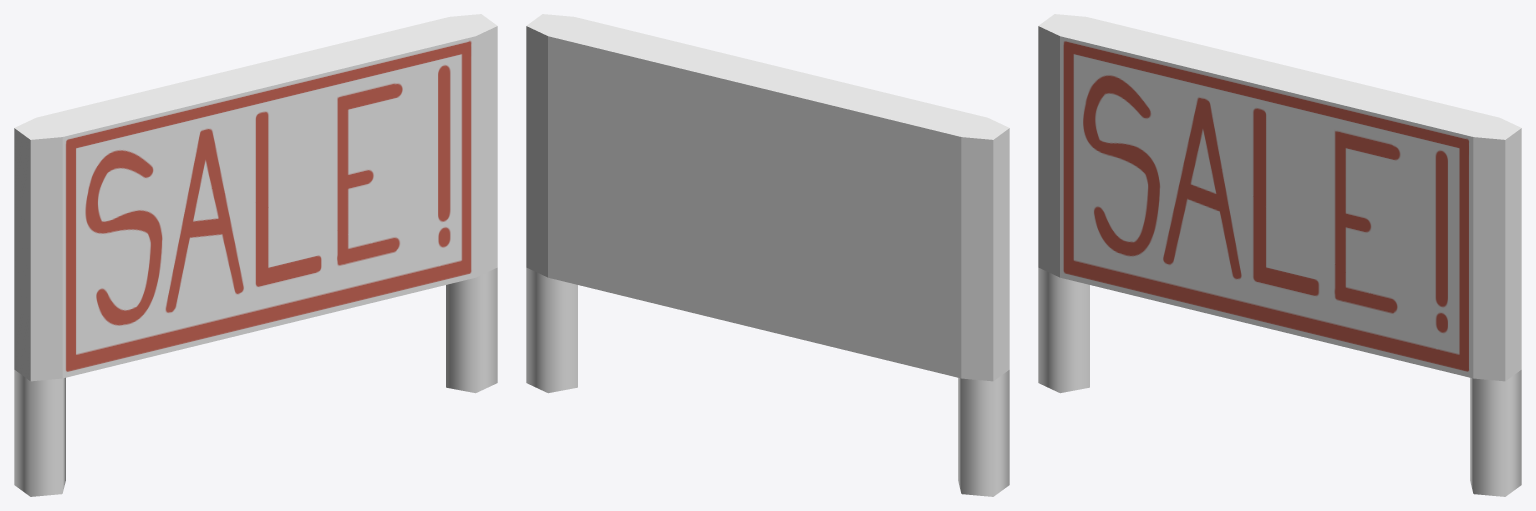
Rendered from Sinal para Venda.FBX.
3 views of the same model, side by side, from view 1: azimuth 30°, elevation 25°; view 2: azimuth 150°, elevation 25°; view 3: azimuth 330°, elevation 25° (orthographic).
Visible parts, largest first — view 1: Cylinder002; view 2: Cylinder002; view 3: Cylinder002.
Part boxes in pixels (x1,y1,x2,y2): Cylinder002: (14, 14, 497, 496); Cylinder002: (526, 14, 1009, 496); Cylinder002: (1038, 14, 1521, 496).
Size of the model in its own units: 13.61 by 9.94 by 1.33.
